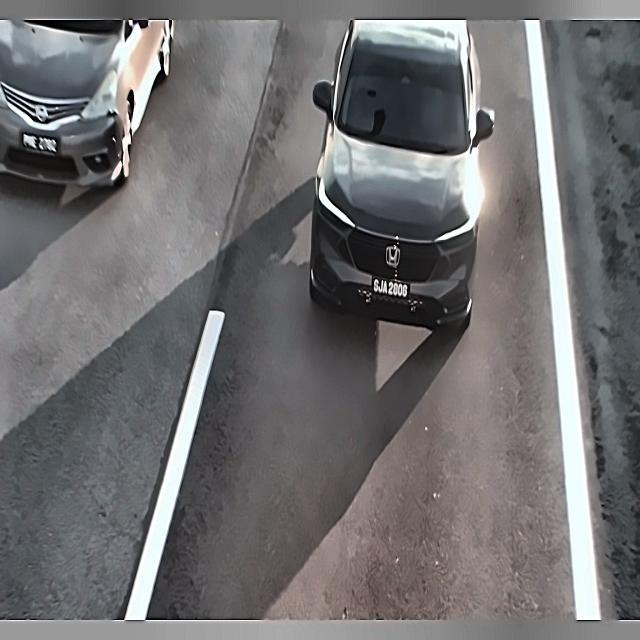car: (368, 271, 415, 308), (16, 128, 64, 158)
